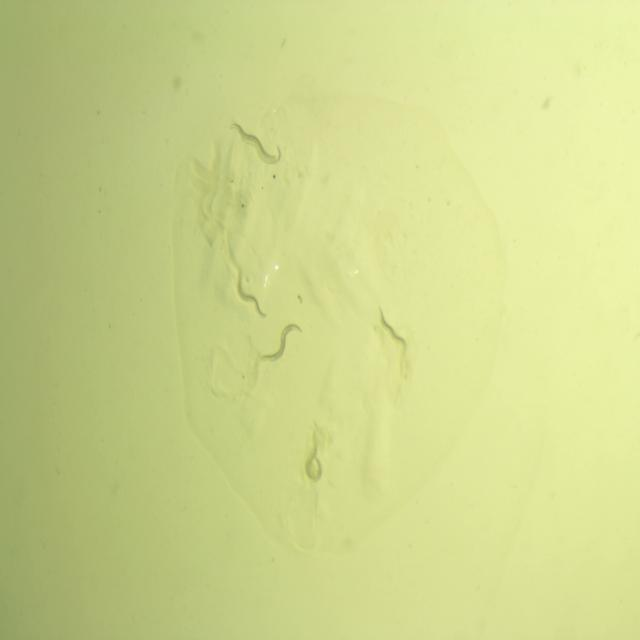worm: (257, 320, 304, 369), (228, 119, 278, 163), (375, 303, 411, 361), (232, 273, 271, 322), (238, 129, 284, 169), (299, 422, 327, 486)
